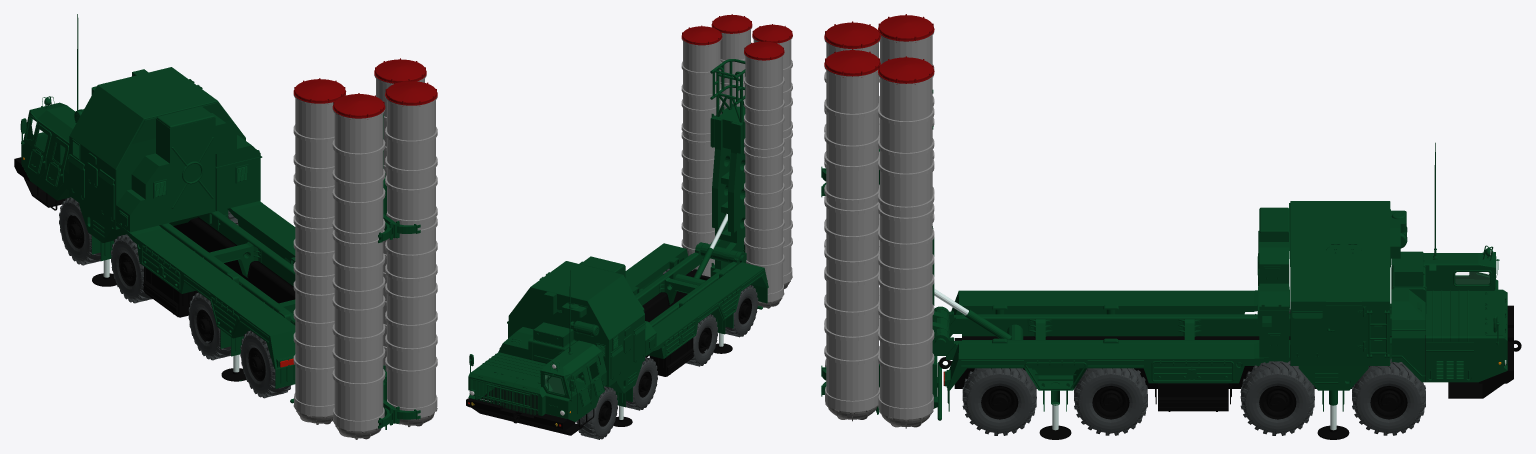
The model's file is ver2_1.fbx.
3 views of the same model, side by side, from view 1: azimuth 30°, elevation 25°; view 2: azimuth 150°, elevation 25°; view 3: azimuth 270°, elevation 25° (orthographic). The views are drawn at different scales.
Parts seen in each view (by area): view 1: Anti-aircraft missile system S-300 все ТПК.002, Anti-aircraft missile system S-300 Favorit.1543(осн), Anti-aircraft missile system S-300 Favorit.колеса, Anti-aircraft missile system S-300 домкраты (верх), Anti-aircraft missile system S-300 все ТПК.001, Anti-aircraft_missile_system_S-300_КЧ, Anti-aircraft missile system S-300 домкраты (низ); view 2: Anti-aircraft missile system S-300 Favorit.1543(осн), Anti-aircraft missile system S-300 все ТПК.002, Anti-aircraft missile system S-300 все ТПК.001, Anti-aircraft_missile_system_S-300_КЧ, Anti-aircraft missile system S-300 Favorit.колеса, Anti-aircraft missile system S-300 домкраты (верх), Anti-aircraft missile system S-300 домкраты (низ), Anti-aircraft missile system S-300 ГЦ под/опуск КЧ; view 3: Anti-aircraft missile system S-300 Favorit.1543(осн), Anti-aircraft missile system S-300 все ТПК.002, Anti-aircraft missile system S-300 все ТПК.001, Anti-aircraft missile system S-300 Favorit.колеса, Anti-aircraft missile system S-300 домкраты (верх), Anti-aircraft_missile_system_S-300_КЧ, Anti-aircraft missile system S-300 домкраты (низ).
Boxes of the visible parts, x1,y1,x2,y2 form: Anti-aircraft missile system S-300 все ТПК.002: [293, 78, 437, 439]; Anti-aircraft missile system S-300 Favorit.1543(осн): [14, 14, 295, 388]; Anti-aircraft missile system S-300 Favorit.колеса: [59, 197, 291, 398]; Anti-aircraft missile system S-300 домкраты (верх): [79, 203, 250, 380]; Anti-aircraft missile system S-300 все ТПК.001: [374, 58, 426, 371]; Anti-aircraft_missile_system_S-300_КЧ: [290, 114, 420, 429]; Anti-aircraft missile system S-300 домкраты (низ): [92, 259, 246, 381]; Anti-aircraft missile system S-300 Favorit.1543(осн): [466, 242, 768, 435]; Anti-aircraft missile system S-300 все ТПК.002: [711, 14, 792, 308]; Anti-aircraft missile system S-300 все ТПК.001: [681, 25, 722, 276]; Anti-aircraft_missile_system_S-300_КЧ: [707, 59, 762, 309]; Anti-aircraft missile system S-300 Favorit.колеса: [504, 268, 758, 439]; Anti-aircraft missile system S-300 домкраты (верх): [615, 273, 740, 407]; Anti-aircraft missile system S-300 домкраты (низ): [613, 333, 732, 426]; Anti-aircraft missile system S-300 ГЦ под/опуск КЧ: [675, 247, 713, 285]; Anti-aircraft missile system S-300 Favorit.1543(осн): [932, 142, 1521, 411]; Anti-aircraft missile system S-300 все ТПК.002: [824, 14, 934, 421]; Anti-aircraft missile system S-300 все ТПК.001: [878, 56, 934, 428]; Anti-aircraft missile system S-300 Favorit.колеса: [962, 309, 1425, 435]; Anti-aircraft missile system S-300 домкраты (верх): [1024, 365, 1368, 411]; Anti-aircraft_missile_system_S-300_КЧ: [821, 90, 949, 420]; Anti-aircraft missile system S-300 домкраты (низ): [1039, 404, 1349, 439].
Bounding box in the file's own units: 9689 × 22692 × 39678.
